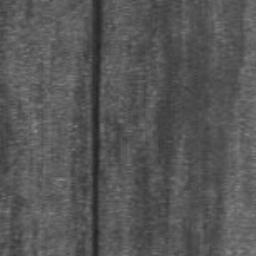Scratches: (91, 0, 103, 256)
